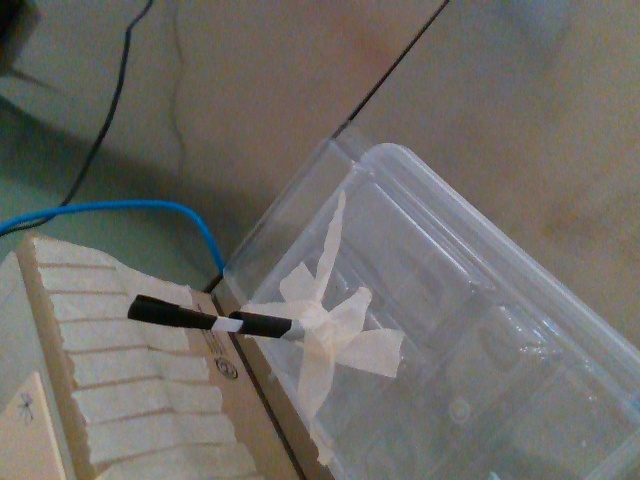test_strip: (125, 292, 243, 332)
